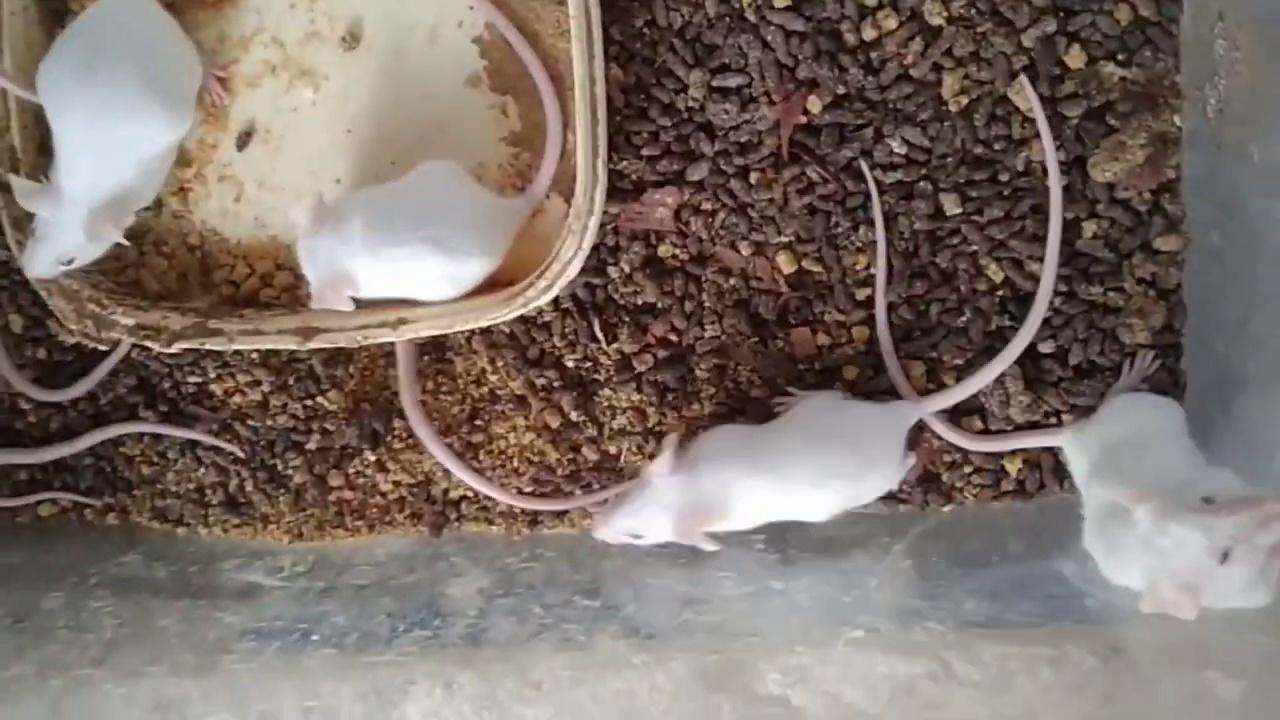rat: (597, 73, 1065, 549), (862, 161, 1279, 620), (299, 0, 563, 309), (1, 0, 226, 281)
